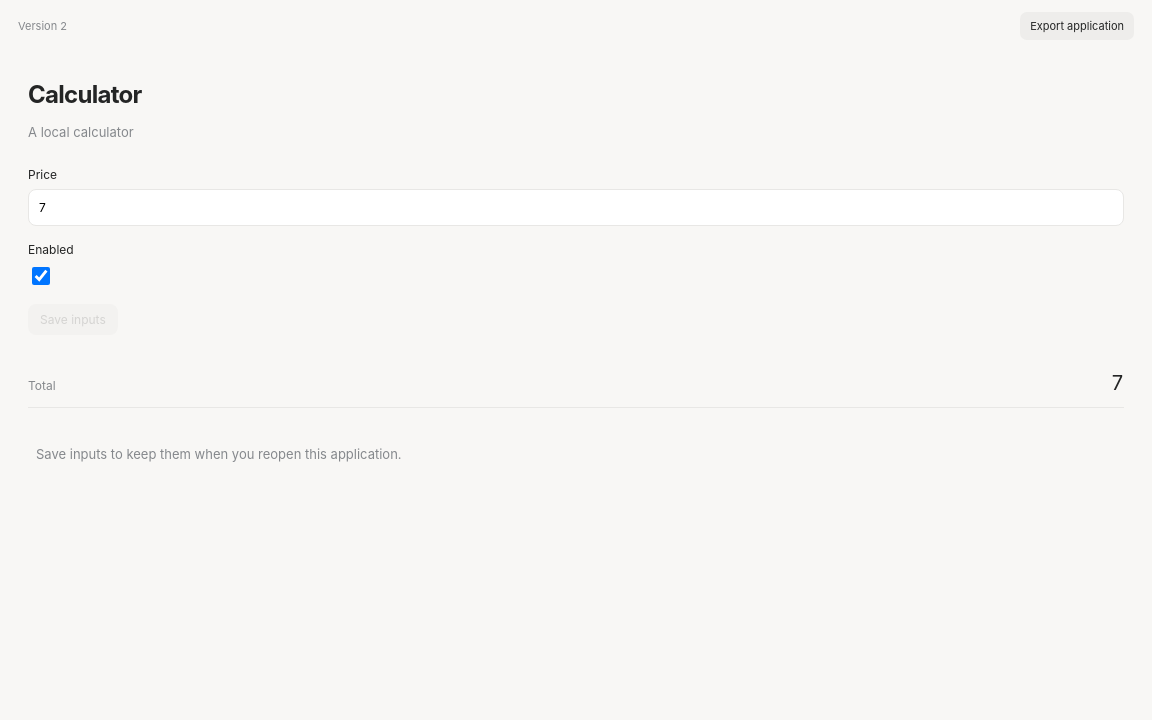
Test case: loads persisted inputs, calculates interactively, and explicitly saves through Rust
Check: the text "7" is shown, box x1=1111 y1=371 x2=1124 y2=395
Replace the text in the number field labelled "Price" with "9". click: (576, 207)
box: x1=28 y1=189 x2=1124 y2=226
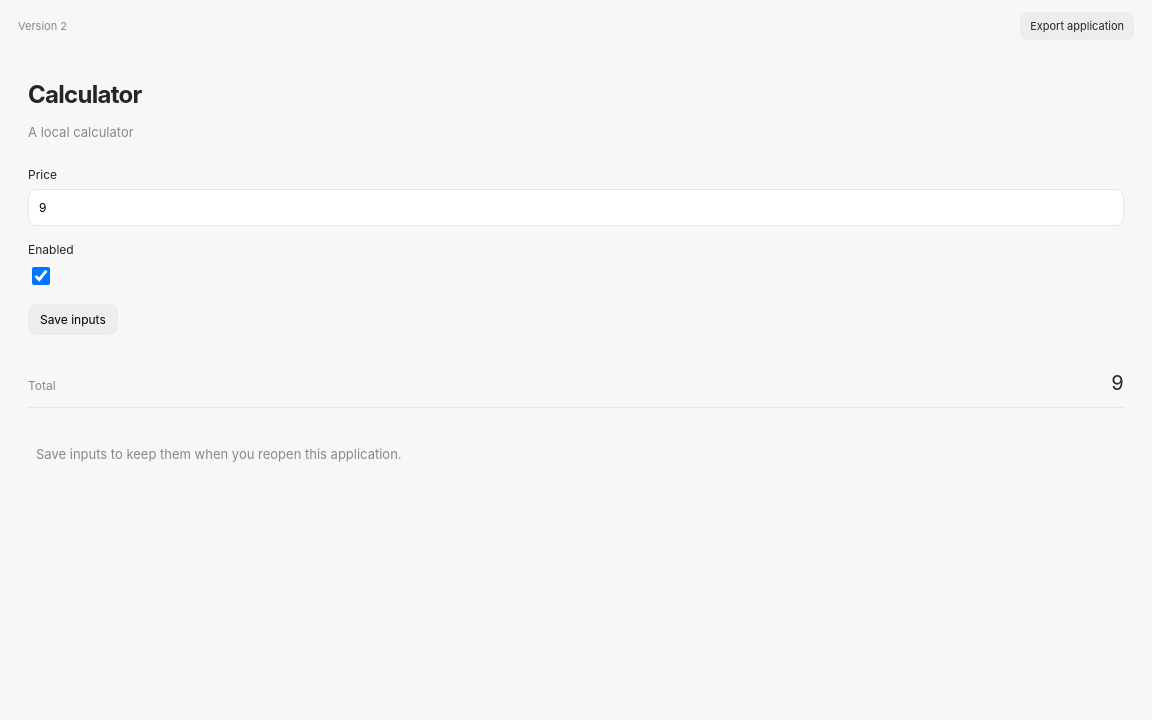
Check: the text "9" is shown, box x1=1111 y1=371 x2=1124 y2=395
Click the button "Save inputs". click: (73, 319)
box: x1=28 y1=304 x2=118 y2=335
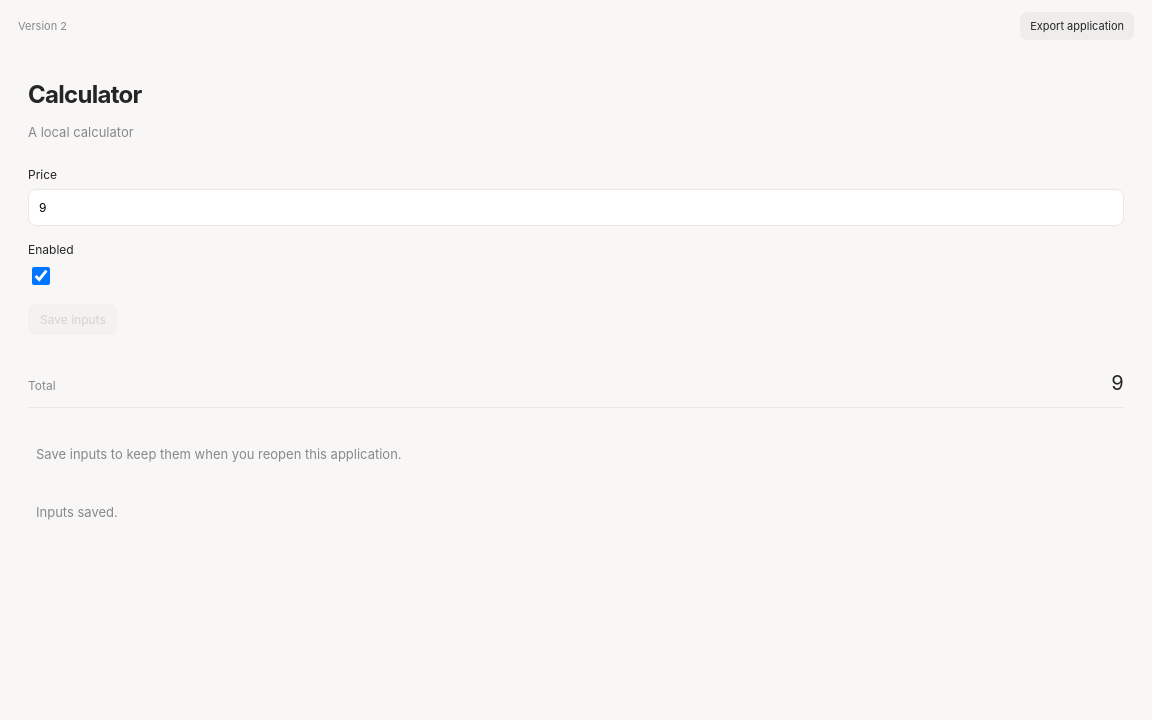
Check: the text "Inputs saved." is shown, box x1=36 y1=504 x2=118 y2=520
Click the checkbox labelled "Enabled". click: (41, 276)
box: x1=32 y1=267 x2=50 y2=285
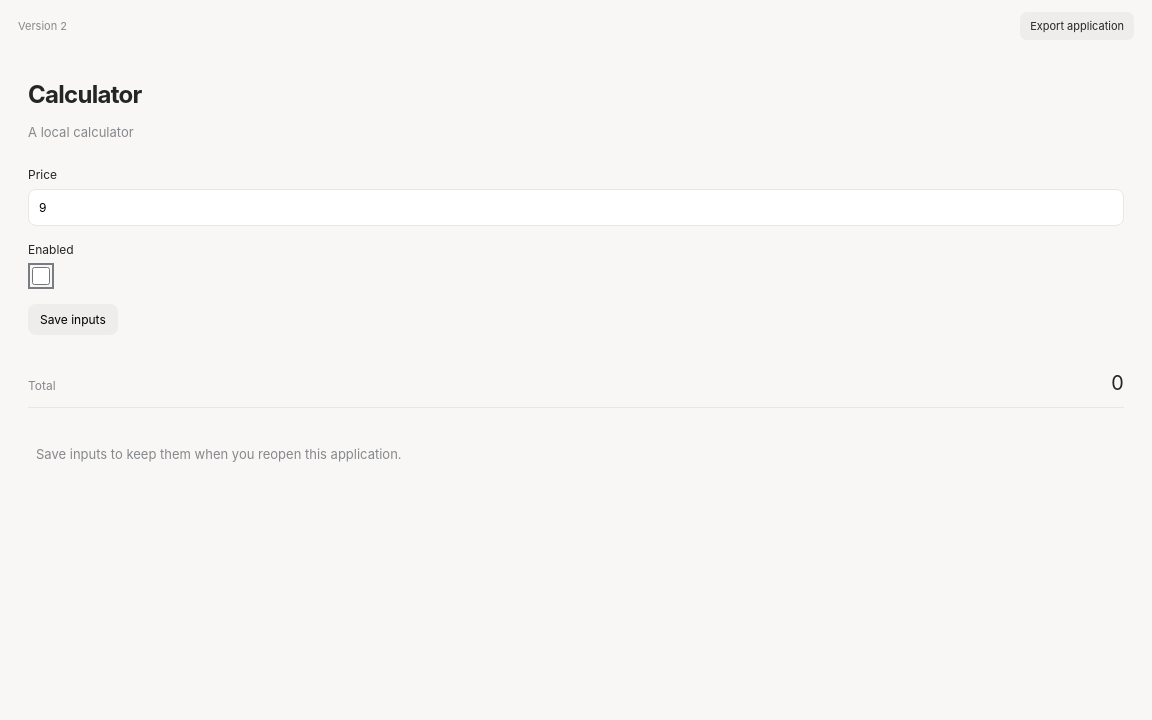
Check: the text "0" is shown, box x1=1111 y1=371 x2=1124 y2=395
